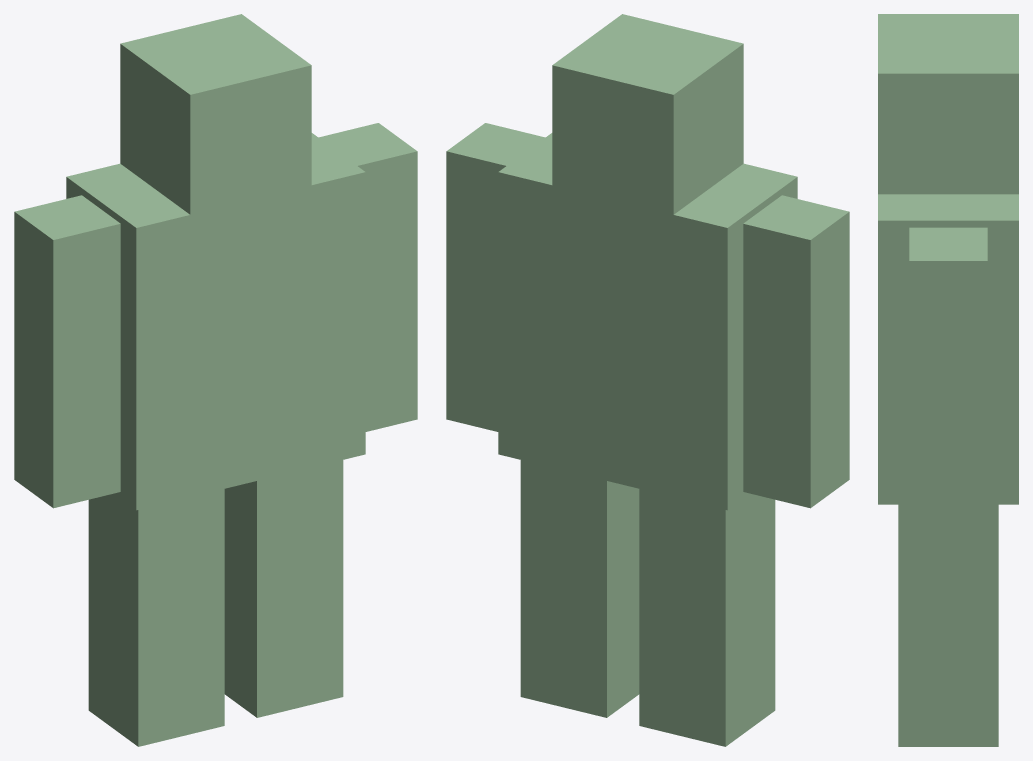
Rendered from master-chief.glb.
3 views of the same model, side by side, from view 1: azimuth 30°, elevation 25°; view 2: azimuth 150°, elevation 25°; view 3: azimuth 270°, elevation 25° (orthographic).
Bounding box in the file's own units: 0.7425 × 1.26 × 0.2475.
